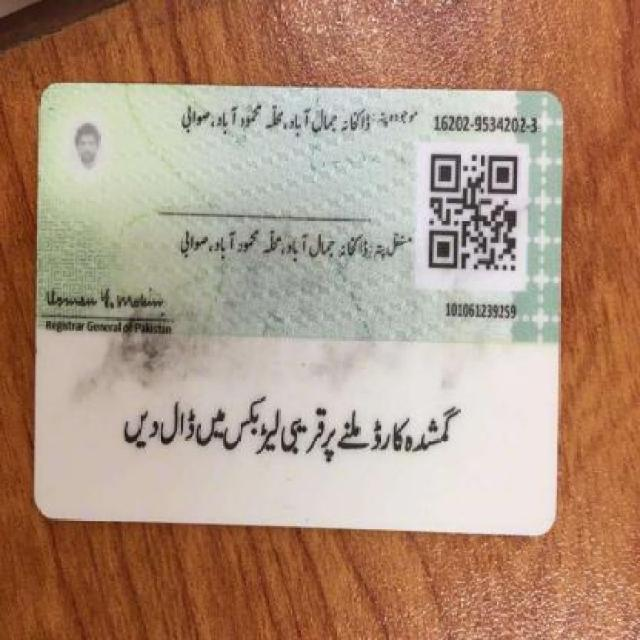Back: (32, 76, 571, 544)
